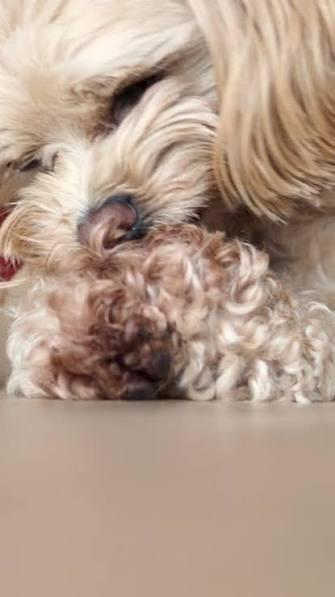adult_dog: (1, 0, 335, 284)
puppy-dog: (1, 224, 335, 404)
